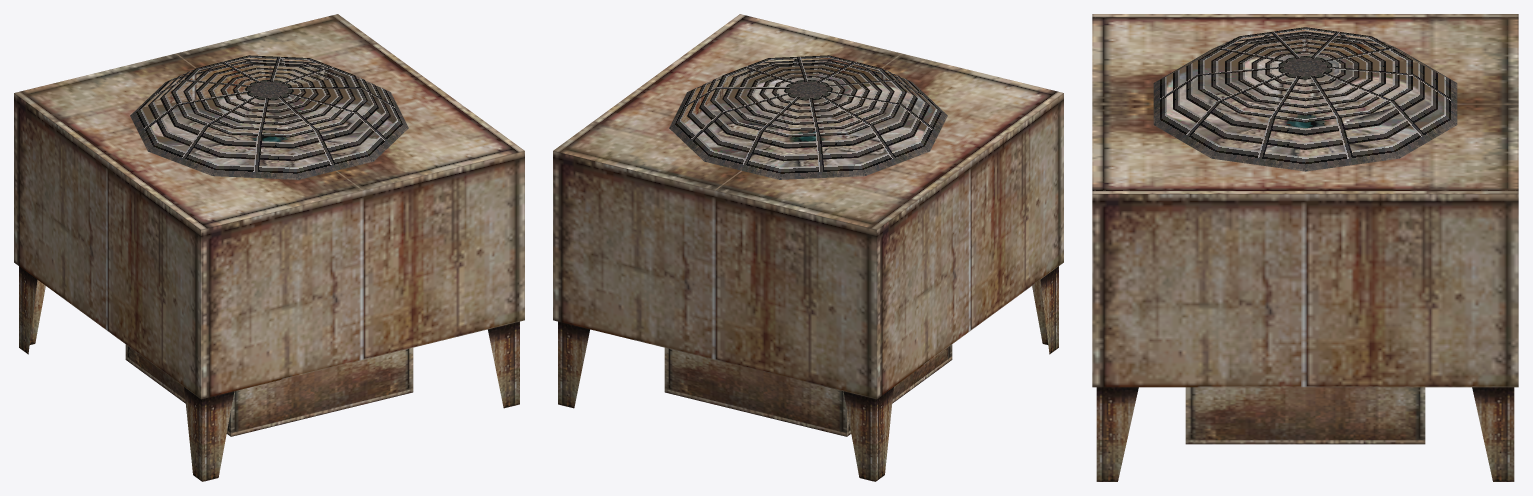
Rendered from roof_fan01.fbx.
The picture shows the model from 3 angles, left to right: view 1: azimuth 30°, elevation 25°; view 2: azimuth 150°, elevation 25°; view 3: azimuth 270°, elevation 25°; orthographic projection. The views are drawn at different scales.
Parts seen in each view (by area): view 1: mesh_0, mesh_2, mesh_1; view 2: mesh_0, mesh_2, mesh_1; view 3: mesh_0, mesh_2, mesh_1.
Part boxes in pixels (left/top/right/bottom): mesh_0: left=14, top=14, right=524, bottom=481; mesh_2: left=130, top=55, right=408, bottom=179; mesh_1: left=142, top=80, right=392, bottom=167; mesh_0: left=553, top=14, right=1063, bottom=481; mesh_2: left=669, top=55, right=947, bottom=179; mesh_1: left=685, top=66, right=935, bottom=167; mesh_0: left=1092, top=14, right=1518, bottom=481; mesh_2: left=1153, top=27, right=1457, bottom=171; mesh_1: left=1166, top=45, right=1444, bottom=157.
Bounding box in the file's own units: 200 × 170 × 200.
Materials: 3 (3 with a texture image).
